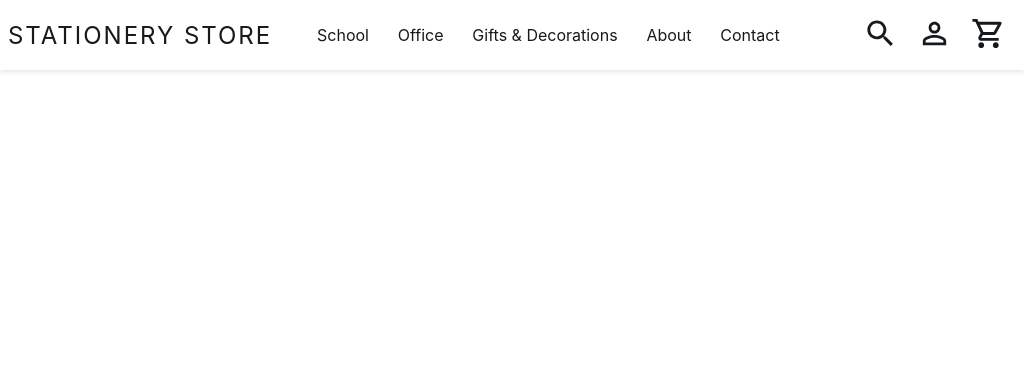
Test: Header component › Header renders CartMenu when Click cartButton
What coordinates should you click on to do the following:
click the element with class "cartButton"
I would click on:
 (989, 34)
Its box is [971,16,1006,51].
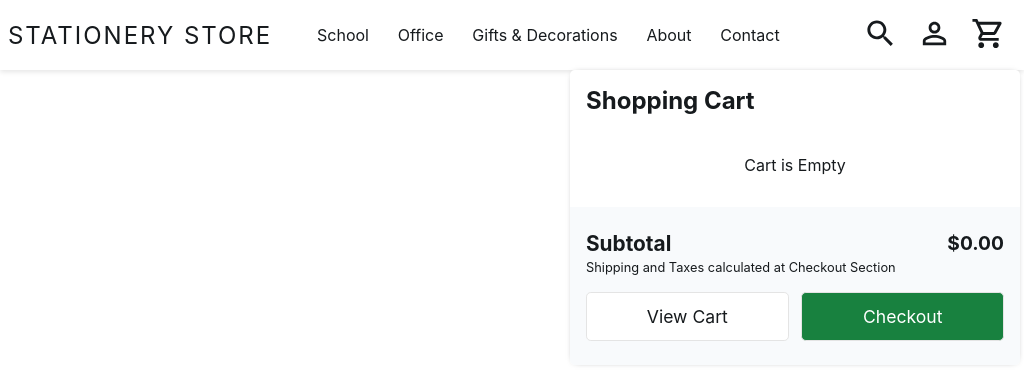
Result: the heading "Shopping Cart" is shown at [586,86,755,115]
